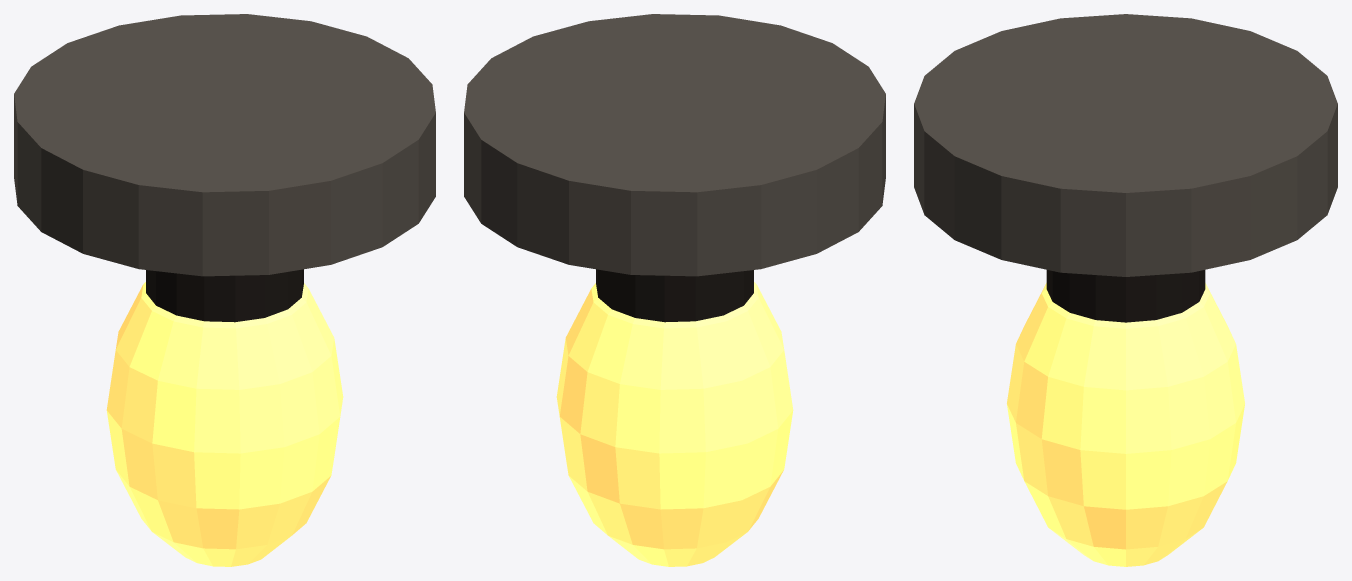
Rendered from bare-ceiling-bulb.glb.
3 renders of one model, left to right at view 1: azimuth 30°, elevation 25°; view 2: azimuth 150°, elevation 25°; view 3: azimuth 270°, elevation 25°, orthographic.
Visible parts, largest first — view 1: SM_CeilingBulbCanopy, SM_CeilingBulbGlass, SM_CeilingBulbSocket; view 2: SM_CeilingBulbCanopy, SM_CeilingBulbGlass, SM_CeilingBulbSocket; view 3: SM_CeilingBulbCanopy, SM_CeilingBulbGlass, SM_CeilingBulbSocket.
Boxes of the visible parts, bbox=[...] form: SM_CeilingBulbCanopy: bbox=[14, 14, 435, 276]; SM_CeilingBulbGlass: bbox=[106, 282, 343, 566]; SM_CeilingBulbSocket: bbox=[146, 269, 303, 322]; SM_CeilingBulbCanopy: bbox=[464, 14, 885, 276]; SM_CeilingBulbGlass: bbox=[556, 282, 793, 566]; SM_CeilingBulbSocket: bbox=[596, 269, 753, 322]; SM_CeilingBulbCanopy: bbox=[914, 14, 1337, 276]; SM_CeilingBulbGlass: bbox=[1007, 283, 1244, 566]; SM_CeilingBulbSocket: bbox=[1046, 270, 1205, 322].
Size of the model in its own units: 0.32 by 0.38 by 0.32.
